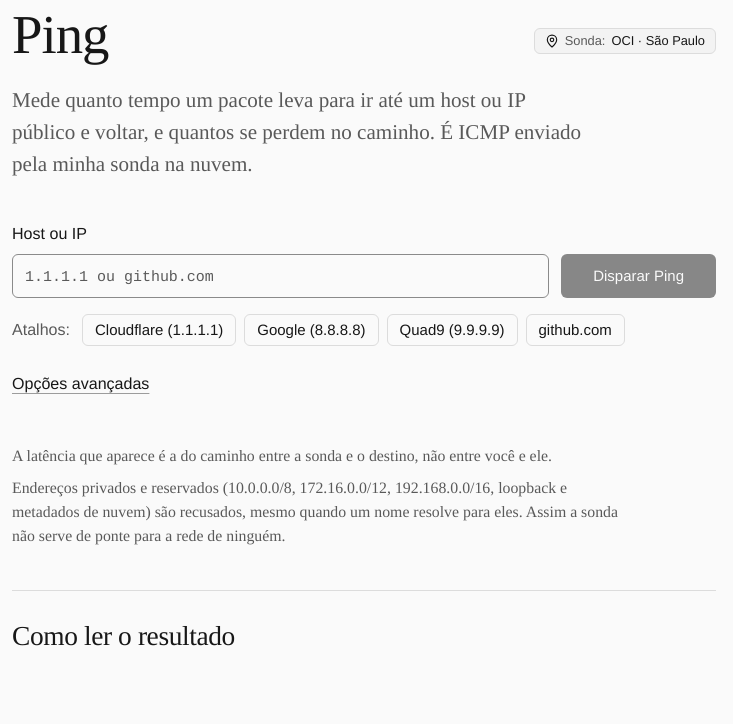
Scenario: Ping (comportamento) › nome que não resolve (invalid_target) é vermelho, com texto em português
This screenshot has width=733, height=724.
In the field: coordinates (281, 276) [12,254,549,298], type "naoexiste.invalid"
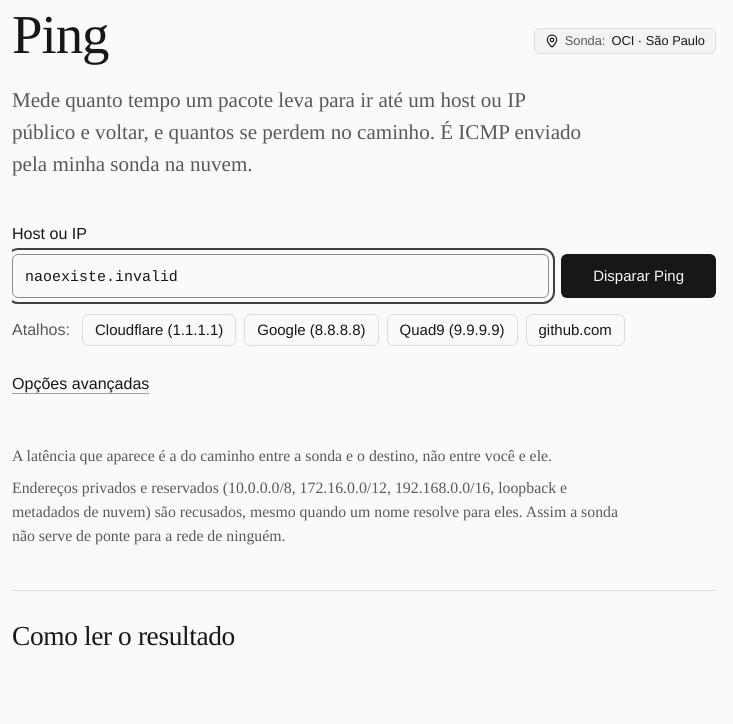
Click the button "Disparar Ping": coordinates (639, 276) [561,254,716,298]
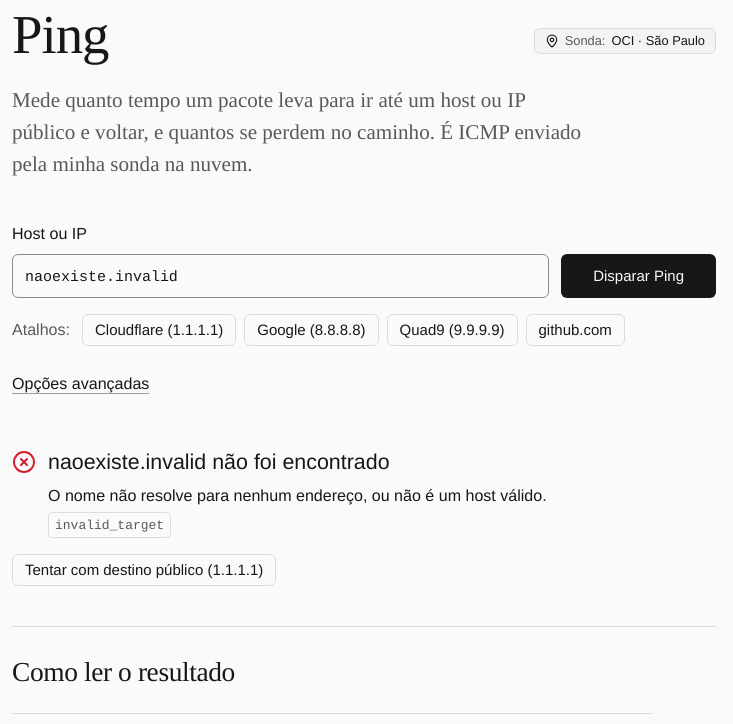
expect the heading "naoexiste.invalid não foi encontrado" is shown: met, box [48,446,390,478]
expect the text "não resolve para nenhum endereço" is shown: met, box [48,486,547,505]
expect the text "invalid_target" is shown: met, box [48,512,171,538]
